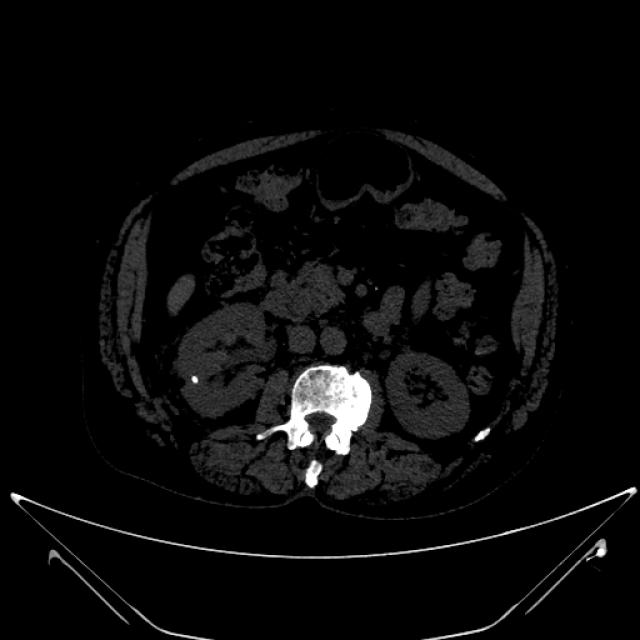kidneystone: (191, 375, 199, 383)
